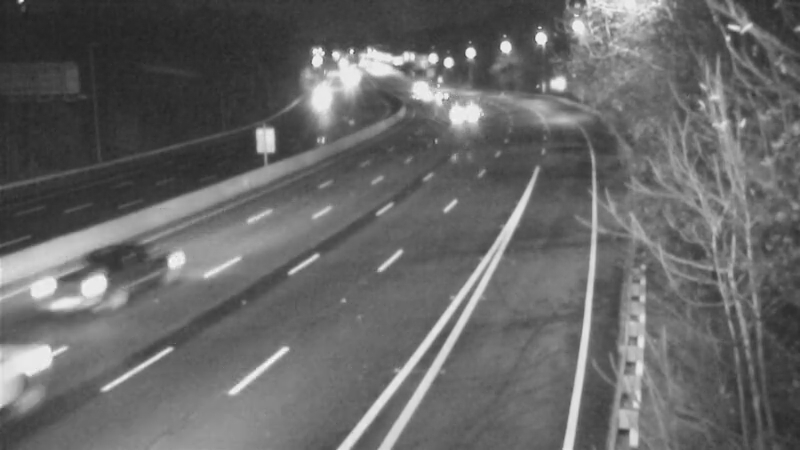vehicle: (31, 248, 111, 328), (412, 64, 462, 114), (440, 86, 490, 136), (296, 69, 346, 119)
